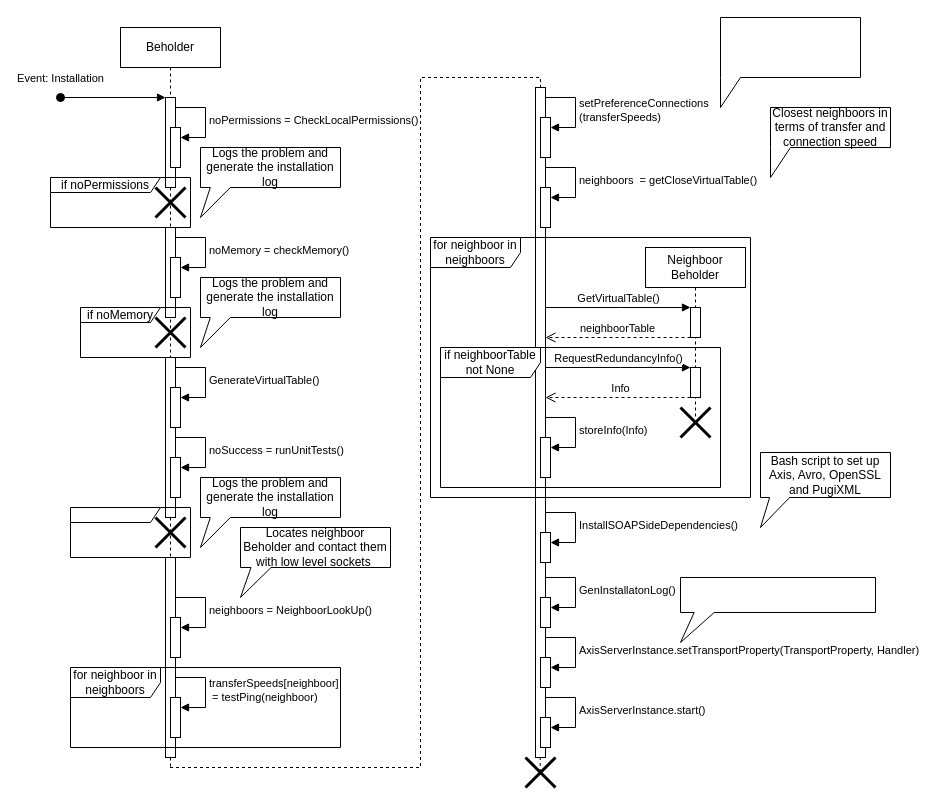
This 937x806 diagram has some shape labels left out. Each missing label, with the centre of its shape:
"Axis set servers after declaring domains and server types in C++" goes at (778,609).
"Decide the closest machines to have the redundancy copies and virtual tables" goes at (790,62).
"if noSuccess" goes at (130,532).
